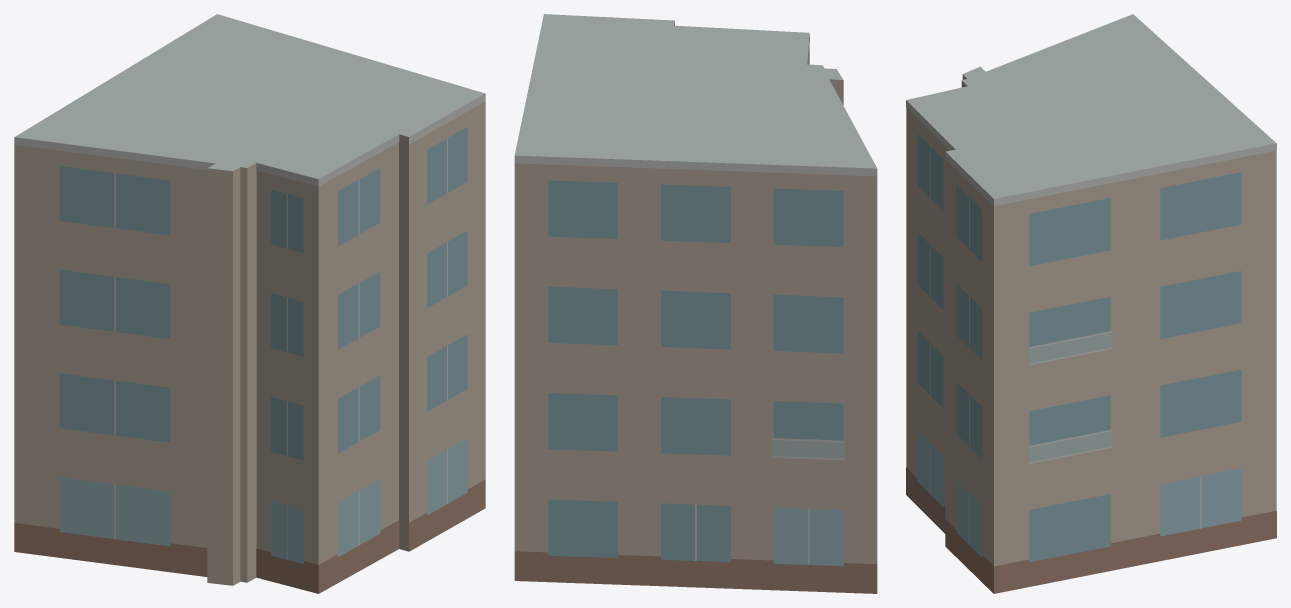
File: survey-upis-32671129.glb
3 views of the same model, side by side, from view 1: azimuth 30°, elevation 25°; view 2: azimuth 150°, elevation 25°; view 3: azimuth 270°, elevation 25° (orthographic). The views are drawn at different scales.
Visible parts, largest first — view 1: survey-upis-32671129.tmp; view 2: survey-upis-32671129.tmp; view 3: survey-upis-32671129.tmp.
Part boxes in pixels (x1=…): survey-upis-32671129.tmp: x1=14, y1=14, x2=485, y2=593; survey-upis-32671129.tmp: x1=514, y1=14, x2=877, y2=593; survey-upis-32671129.tmp: x1=906, y1=14, x2=1276, y2=593.
Bounding box in the file's own units: 13.48 × 13.4 × 11.41.
